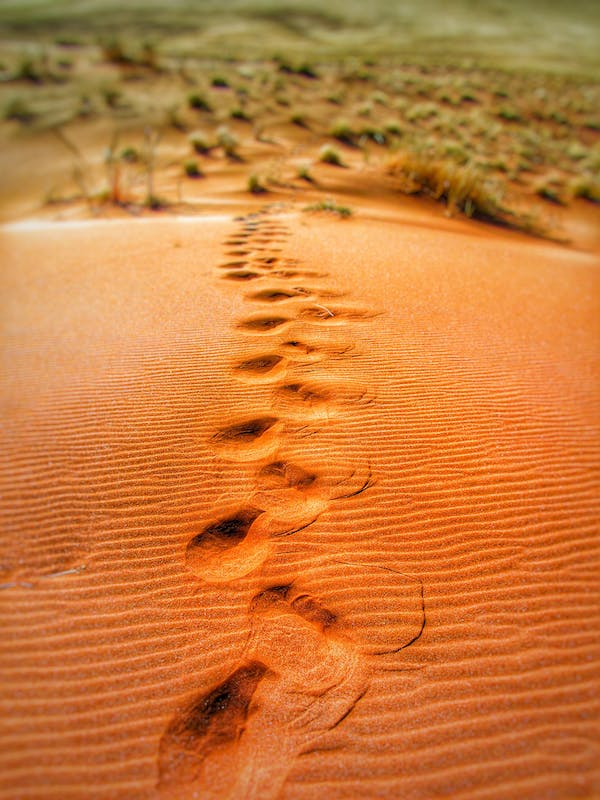human_footprint: (97, 195, 401, 760)
